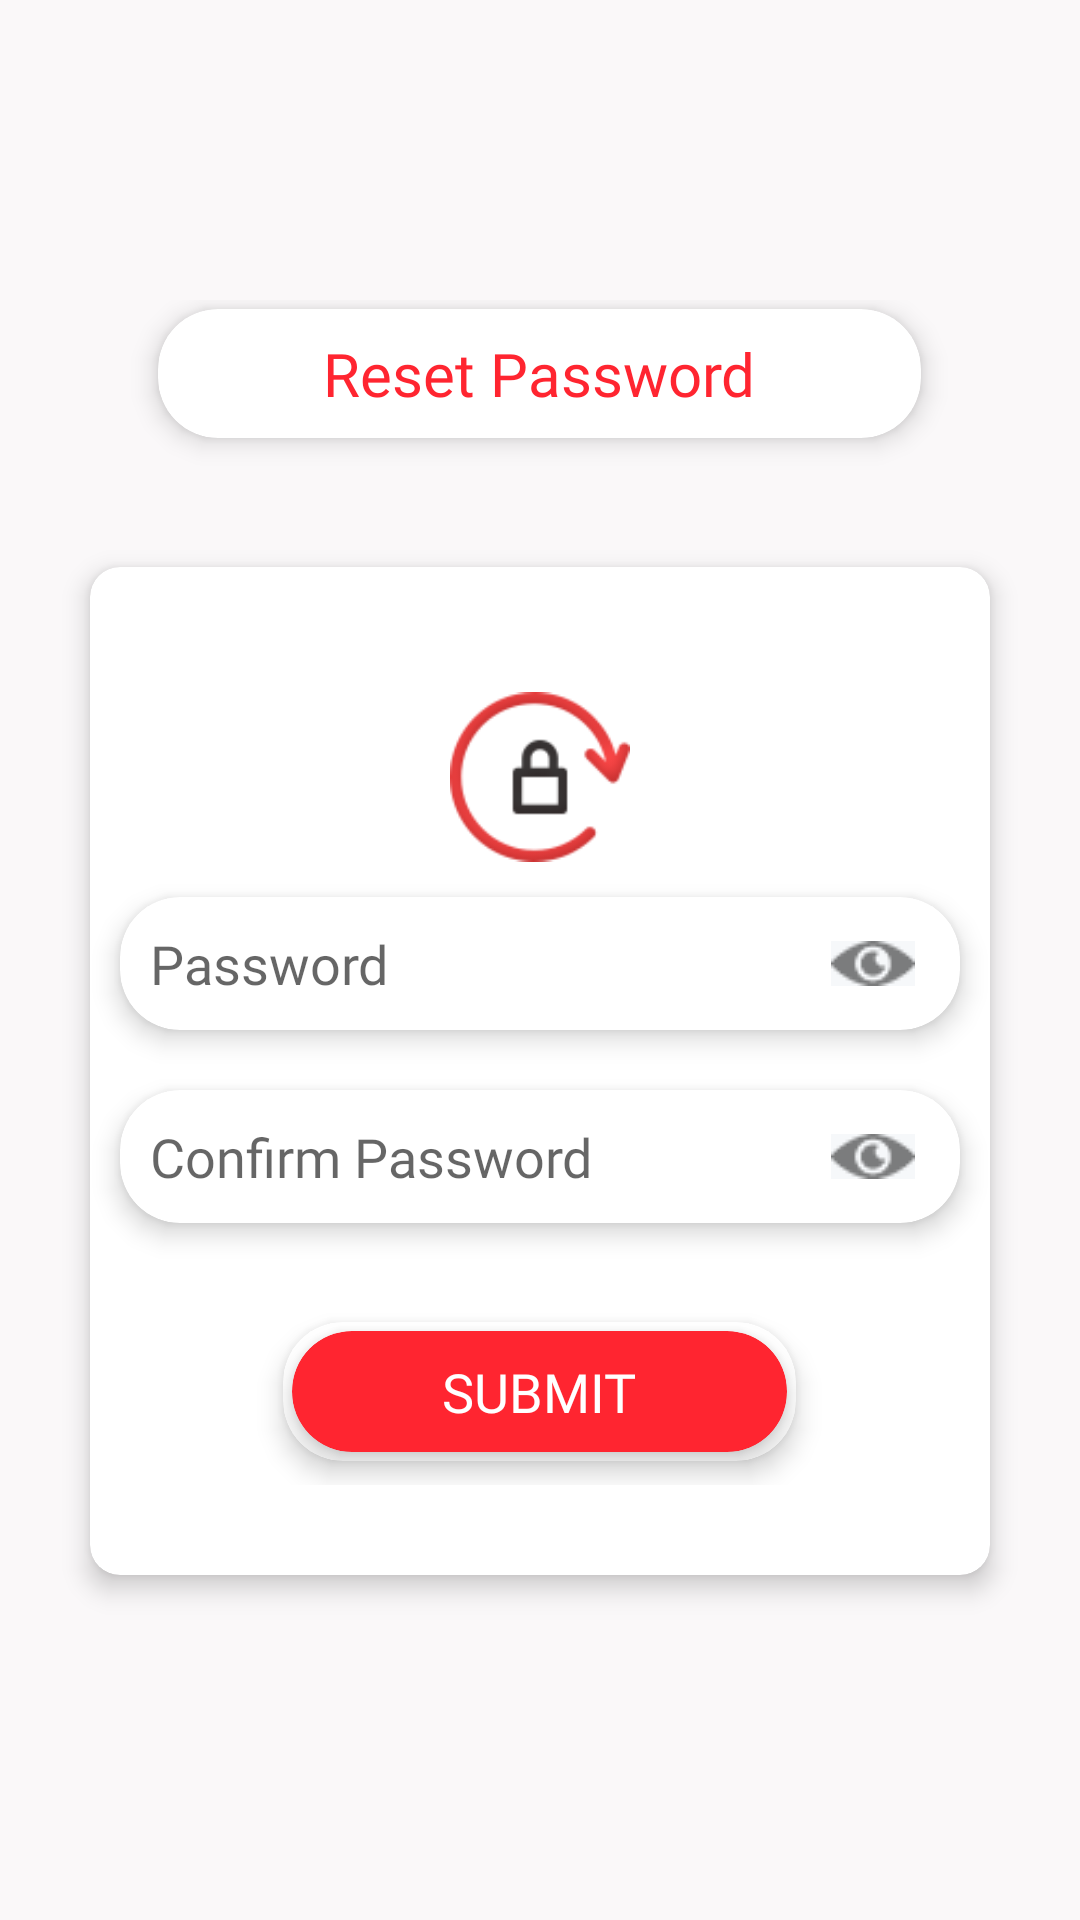

Icon click points for this 1080px x 1920px phone screenshot, format (x,y):
eye: (873,963), (873,1156)
